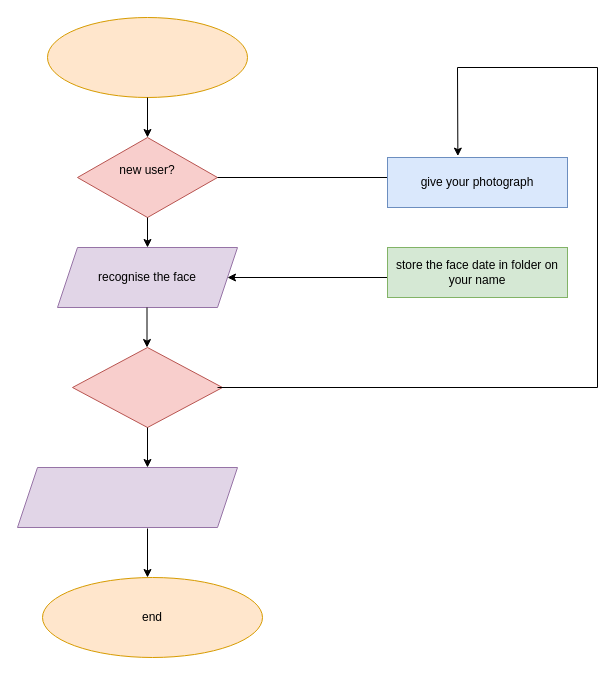
Image size: 616x675. Some labels were removed from this diagram. Each missing label, with the centre of its shape:
face recognised: the point at 147,387
start: the point at 147,57
stored in csv file with registration number &date time of entry: the point at 127,497
